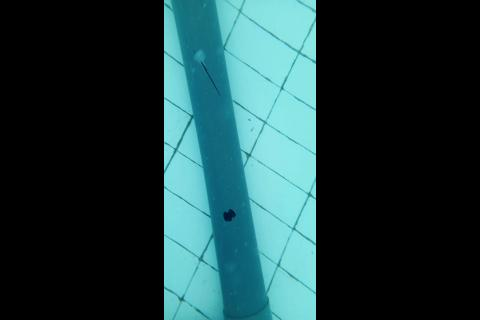kebocoran: (221, 207, 237, 224)
keretakan: (193, 49, 222, 99)
